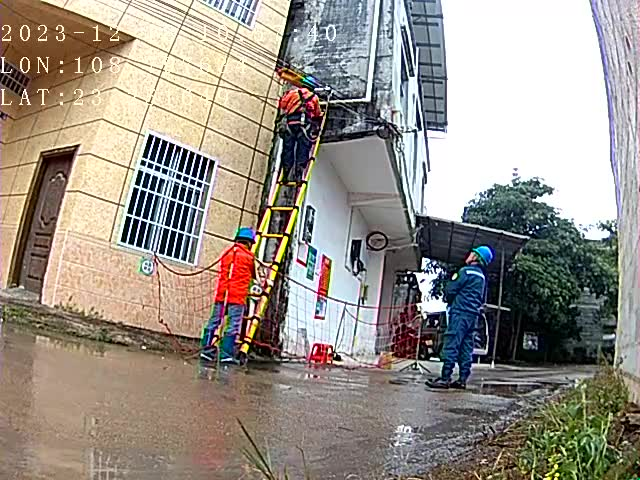halt: (467, 248, 497, 270), (237, 230, 259, 251), (300, 78, 321, 94)
